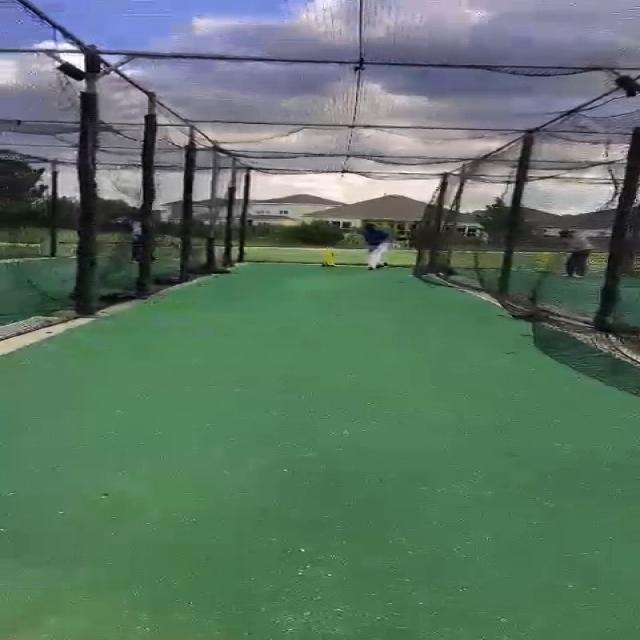batsman: (356, 222, 401, 271)
